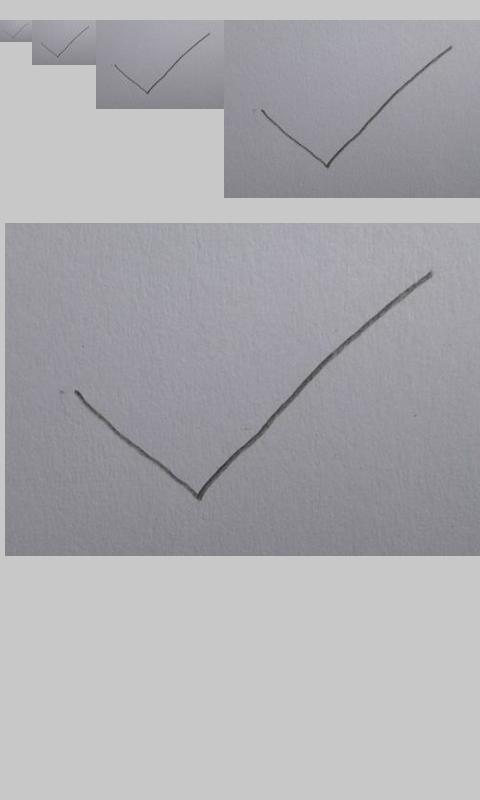check_box: (73, 269, 434, 503), (262, 46, 452, 168), (114, 33, 211, 94), (42, 26, 89, 58), (5, 23, 29, 39)
